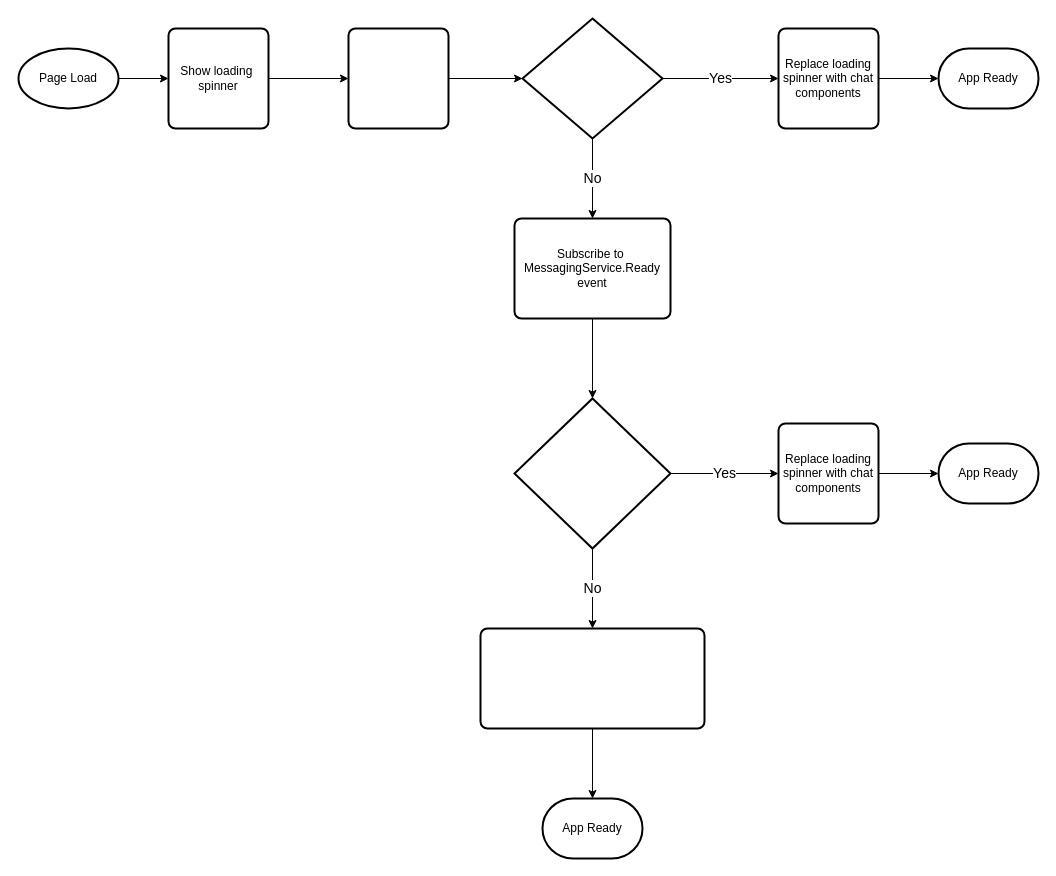
This 1056x876 diagram has some shape labels left out. The shapes that lost their labels are listed below. From the top down, each one's box as (x1, y1, x2, y2) in pixels, then its label:
(347, 27, 449, 129): Load script to pull Genesys SDK
(521, 17, 663, 139): Has SDK already been initialised?
(513, 397, 671, 549): Is there an active conversation present?
(479, 627, 705, 729): Call MessagingService.startConversation command
